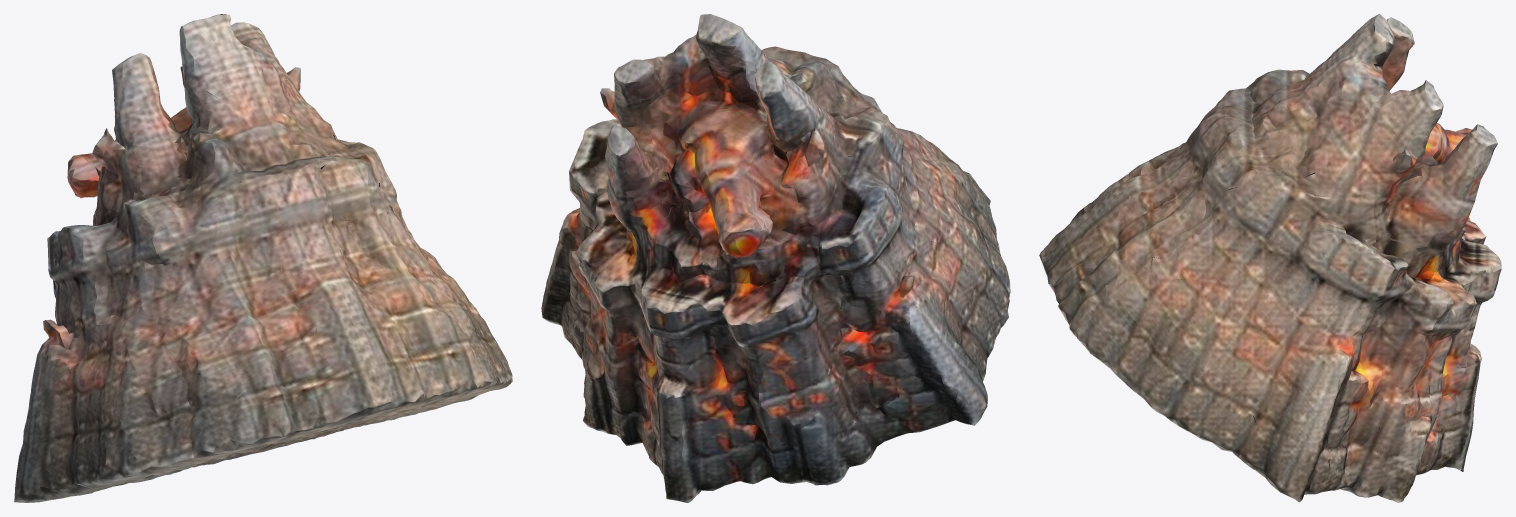
File: titanforge_flagship.glb
The picture shows the model from 3 angles, left to right: view 1: azimuth 30°, elevation 25°; view 2: azimuth 150°, elevation 25°; view 3: azimuth 270°, elevation 25°; orthographic projection. The views are drawn at different scales.
Visible parts, largest first — view 1: geometry_0; view 2: geometry_0; view 3: geometry_0.
Boxes of the visible parts, bbox=[...] form: geometry_0: bbox=[14, 14, 512, 502]; geometry_0: bbox=[541, 14, 1010, 502]; geometry_0: bbox=[1039, 14, 1501, 502].
Bounding box in the file's own units: 0.8772 × 0.8534 × 0.7999.
Materials: 1 (1 with a texture image).
